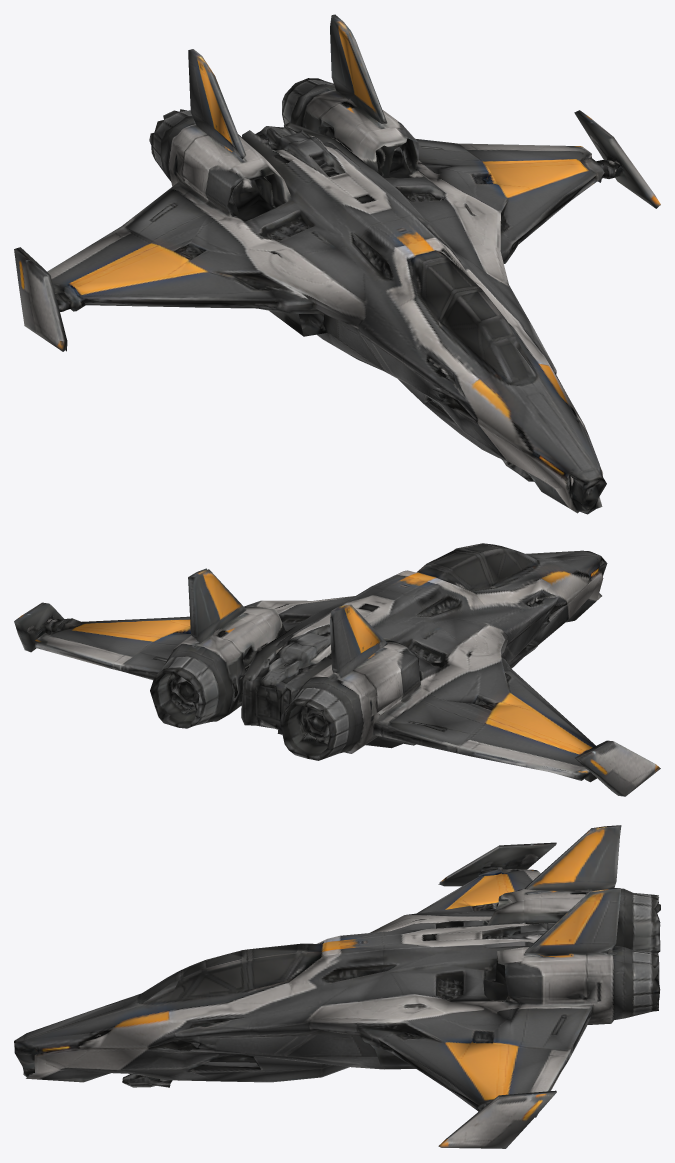
The model's file is tripo-rebaked-3000.glb.
3 renders of one model, top to bottom at view 1: azimuth 30°, elevation 25°; view 2: azimuth 150°, elevation 25°; view 3: azimuth 270°, elevation 25°, orthographic. The views are drawn at different scales.
Visible parts, largest first — view 1: Low; view 2: Low; view 3: Low.
Boxes of the visible parts, x1,y1,x2,y2 form: Low: [14, 14, 660, 514]; Low: [14, 543, 660, 796]; Low: [14, 825, 660, 1148].
Size of the model in its own units: 0.9542 by 0.3831 by 0.9804.
Materials: 1 (1 with a texture image).
